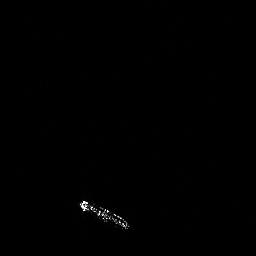ship: (79, 200, 129, 230)
